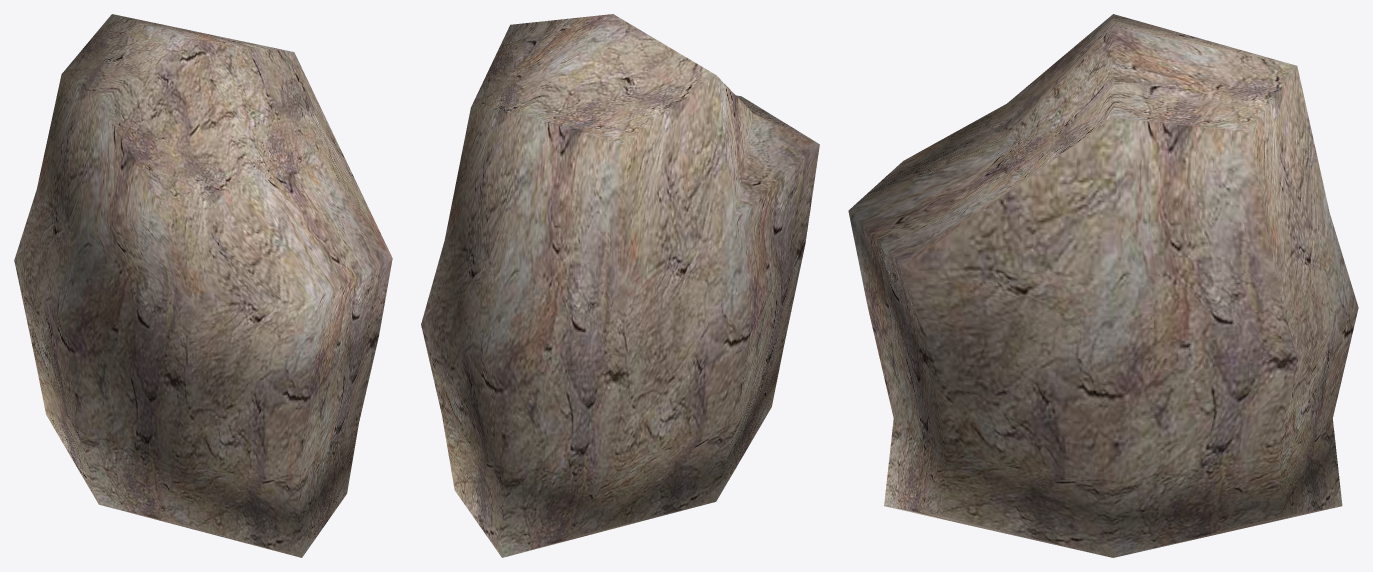
Rendered from stone_01.fbx.
The picture shows the model from 3 angles, left to right: view 1: azimuth 30°, elevation 25°; view 2: azimuth 150°, elevation 25°; view 3: azimuth 270°, elevation 25°; orthographic projection. The views are drawn at different scales.
Visible parts, largest first — view 1: pCube4; view 2: pCube4; view 3: pCube4.
Part boxes in pixels (box(x1,y1,x2,y2)): pCube4: box(14, 14, 392, 557); pCube4: box(421, 14, 819, 557); pCube4: box(848, 14, 1358, 557).
Bounding box in the file's own units: 2 × 3.47 × 3.12.
